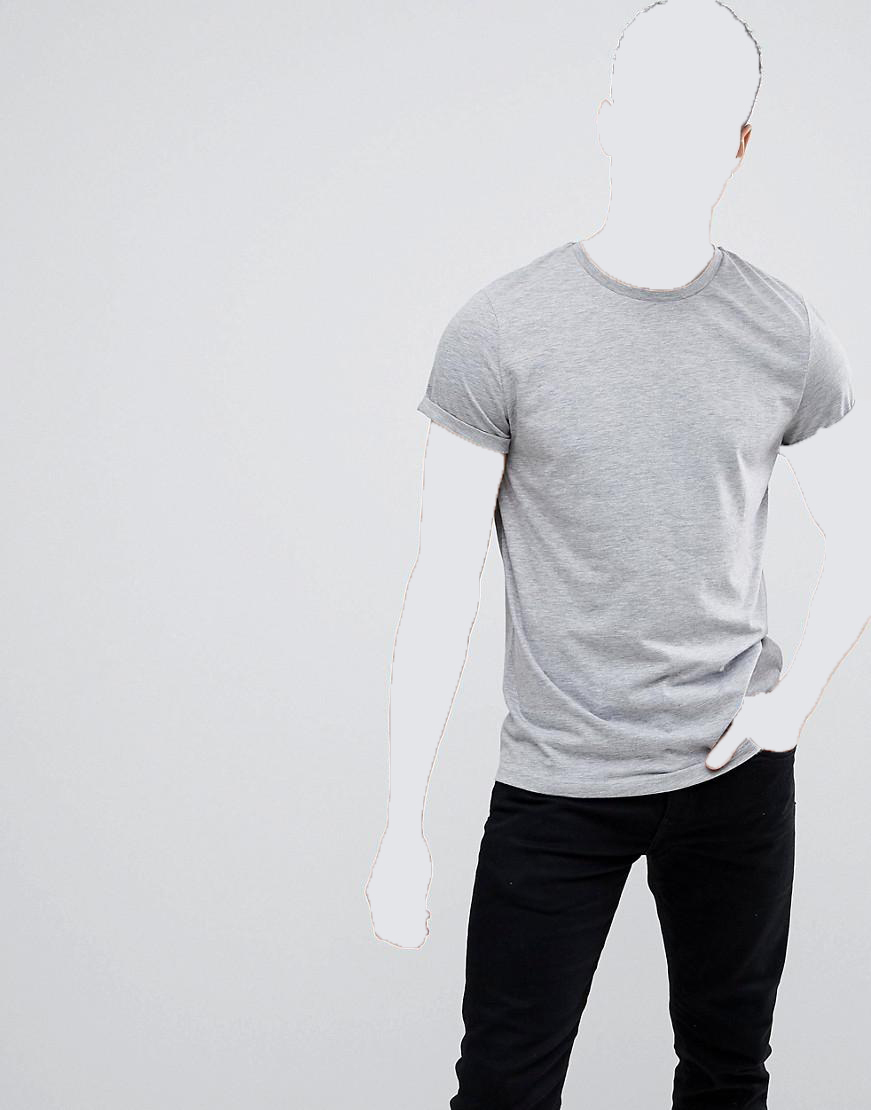teeshirt: (407, 237, 857, 795)
